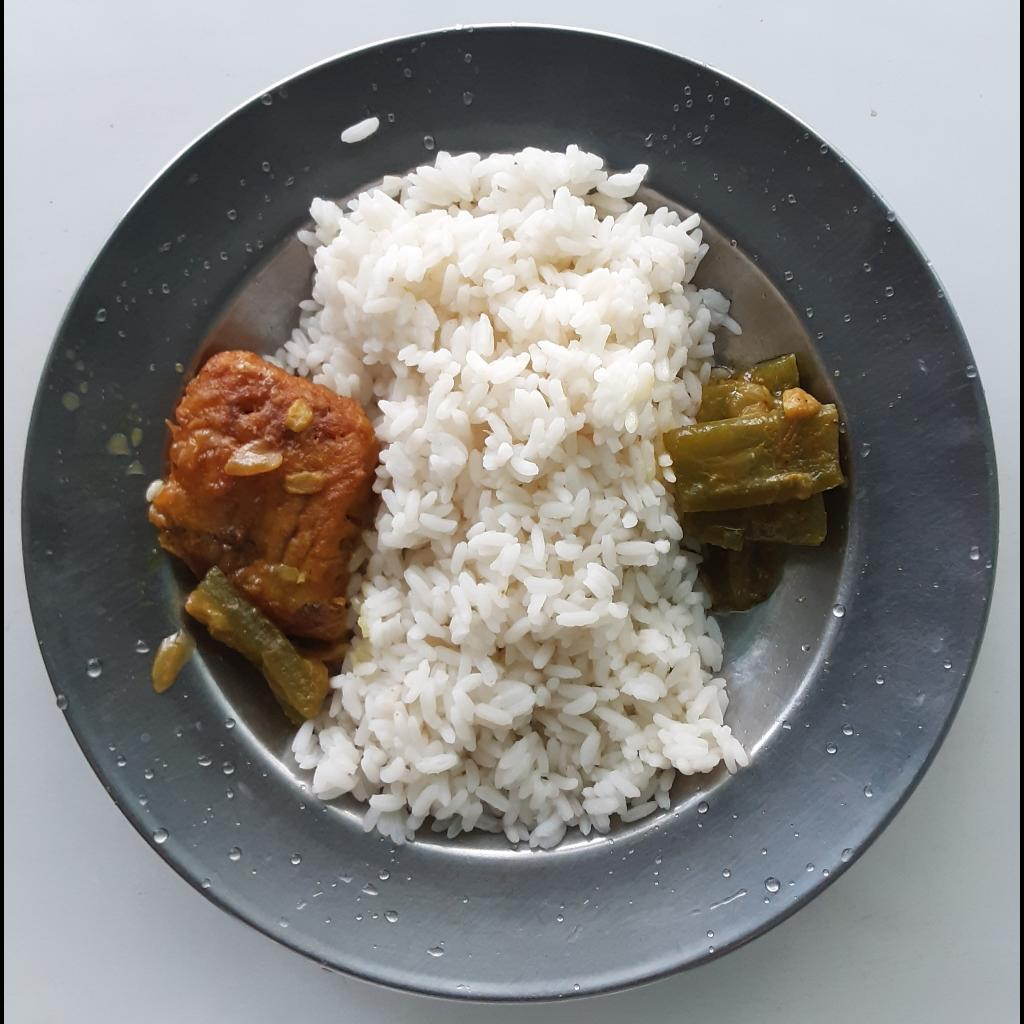fish: (153, 347, 383, 636)
rice: (267, 145, 747, 854), (340, 121, 380, 140)
vegetable: (670, 354, 845, 613), (182, 559, 327, 717)
